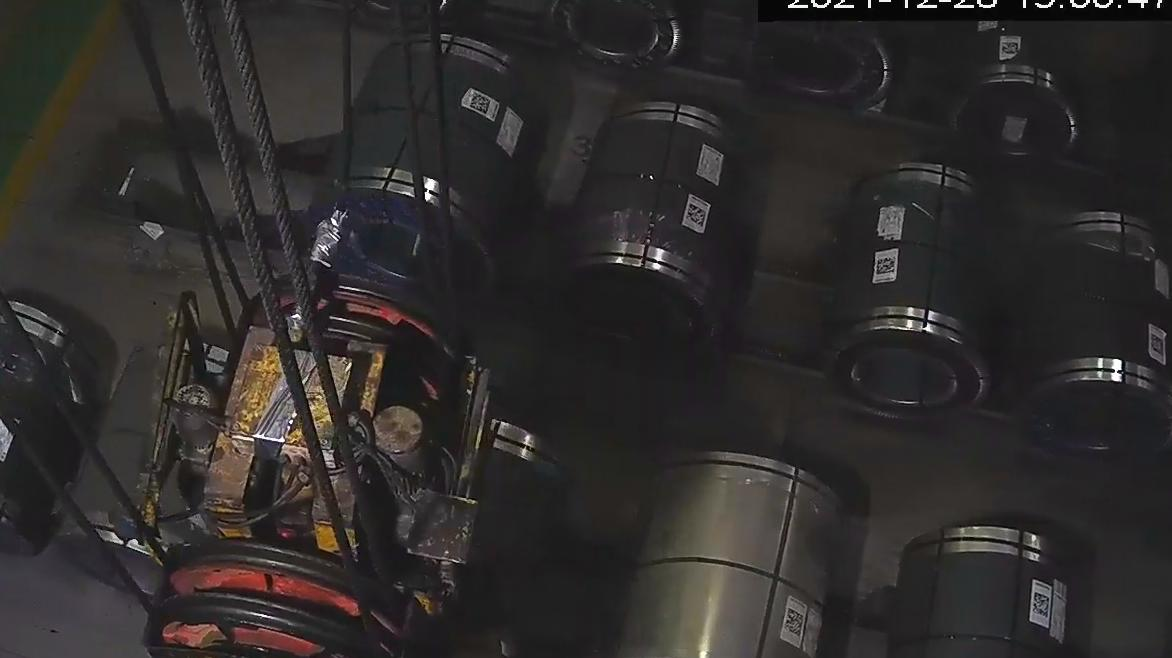data matrix: (782, 606, 807, 641), (681, 201, 711, 230), (465, 89, 494, 117), (1030, 590, 1054, 622), (873, 255, 899, 277), (1149, 334, 1167, 357)
